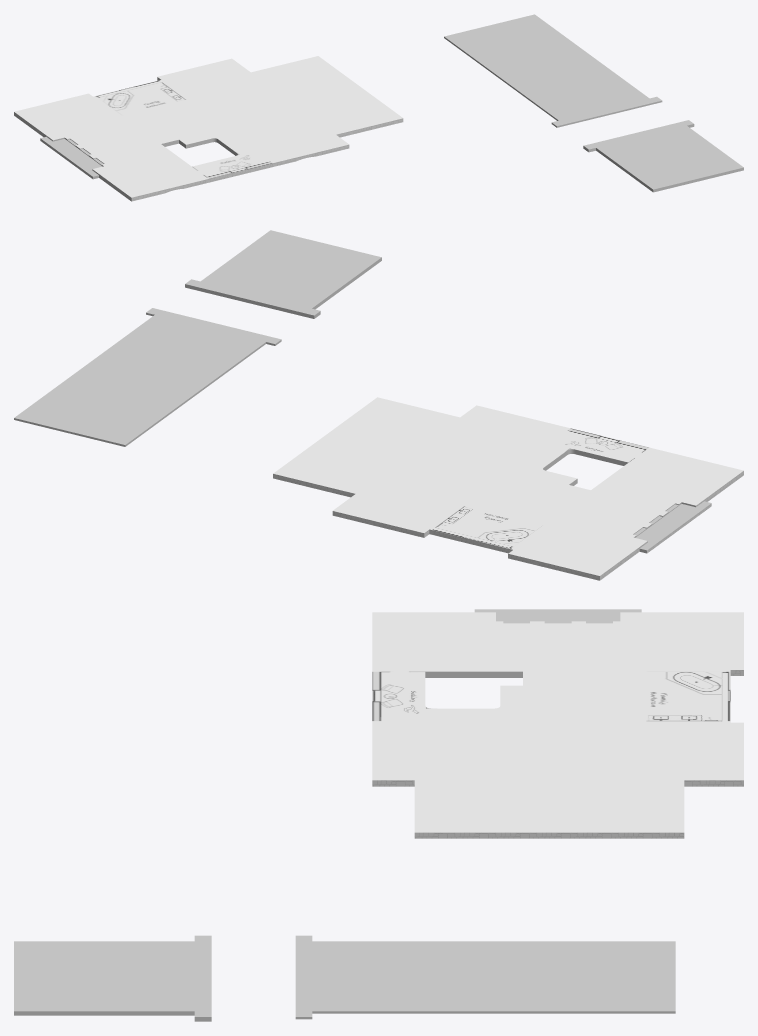
File: RB05__Storey__FirstFloor__ProposedFloors__MeshModel__.glb
The picture shows the model from 3 angles, top to bottom: view 1: azimuth 30°, elevation 25°; view 2: azimuth 150°, elevation 25°; view 3: azimuth 270°, elevation 25°; orthographic projection. The views are drawn at different scales.
Parts seen in each view (by area): view 1: 22__ProposedBuilding__Floors::MAT000E__RB05__FirstfloorPlan_, 22__ProposedBuilding__Floors::Default, 22__ProposedBuilding__Floors::MAT000E__Masonry__StoneworkPat; view 2: 22__ProposedBuilding__Floors::MAT000E__RB05__FirstfloorPlan_, 22__ProposedBuilding__Floors::Default, 22__ProposedBuilding__Floors::MAT000E__Masonry__StoneworkPat; view 3: 22__ProposedBuilding__Floors::MAT000E__RB05__FirstfloorPlan_, 22__ProposedBuilding__Floors::Default, 22__ProposedBuilding__Floors::MAT000E__Masonry__StoneworkPat.
Part boxes in pixels (left/top/right/bottom): 22__ProposedBuilding__Floors::MAT000E__RB05__FirstfloorPlan_: left=14, top=56, right=402, bottom=197; 22__ProposedBuilding__Floors::Default: left=40, top=14, right=743, bottom=192; 22__ProposedBuilding__Floors::MAT000E__Masonry__StoneworkPat: left=14, top=77, right=403, bottom=201; 22__ProposedBuilding__Floors::MAT000E__RB05__FirstfloorPlan_: left=273, top=397, right=743, bottom=575; 22__ProposedBuilding__Floors::Default: left=14, top=230, right=711, bottom=553; 22__ProposedBuilding__Floors::MAT000E__Masonry__StoneworkPat: left=273, top=471, right=743, bottom=580; 22__ProposedBuilding__Floors::MAT000E__RB05__FirstfloorPlan_: left=372, top=612, right=743, bottom=832; 22__ProposedBuilding__Floors::Default: left=14, top=609, right=675, bottom=1021; 22__ProposedBuilding__Floors::MAT000E__Masonry__StoneworkPat: left=372, top=670, right=743, bottom=838.
Bounding box in the file's own units: 41.82 × 0.9 × 32.6.
3 materials, 2 textured.
